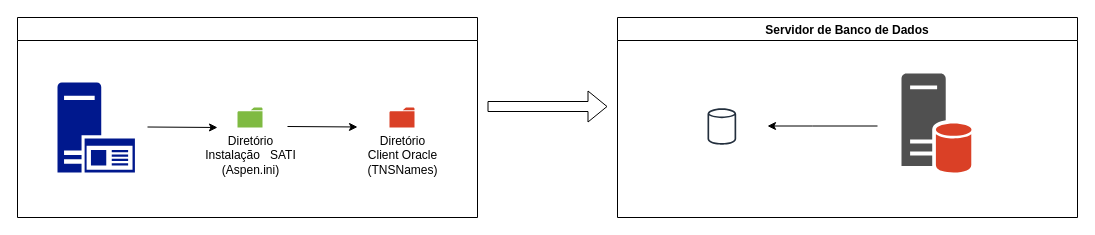
Image size: 1095x235. Some labels were removed from this diagram. The centre of each missing label's shape, as x and y in pixels:
Banco de Dados SATI: [721,126]
Servidor de Aplicação: [247,117]
